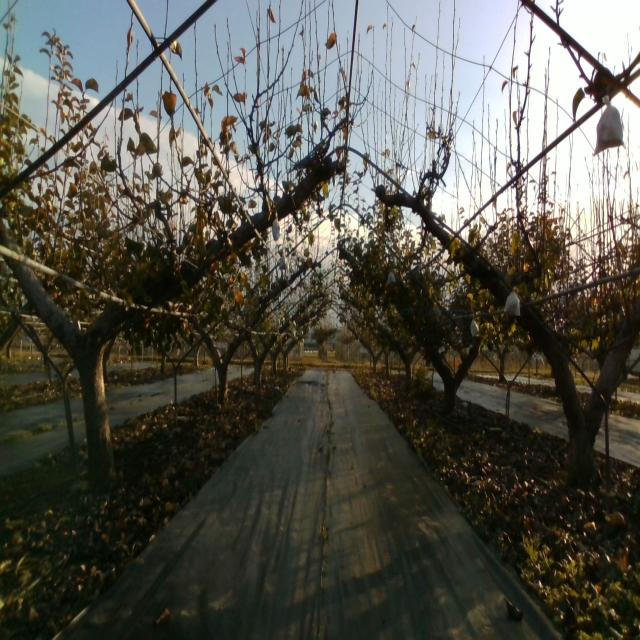pearbags: (593, 94, 624, 154), (503, 285, 521, 318)
